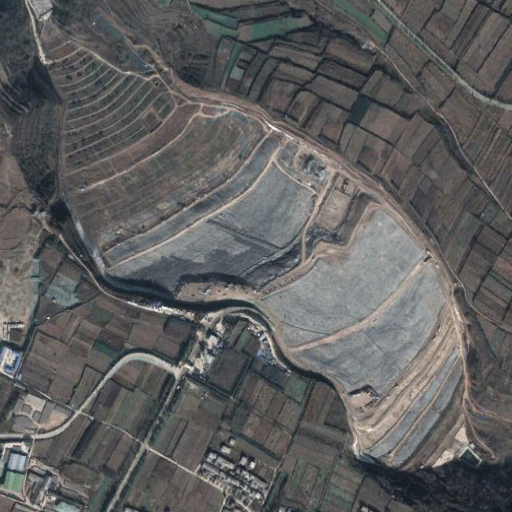lf: (95, 127, 473, 474)
